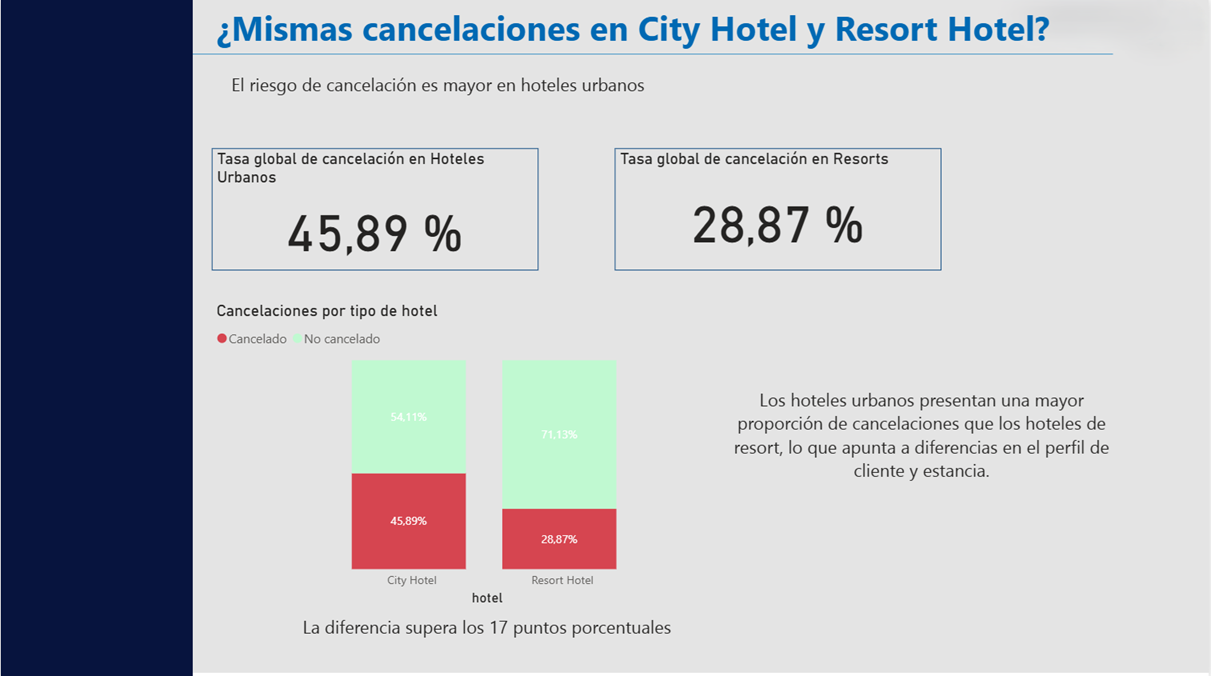

What the dashboard file says about the page in this screenshot:
{"tool":"powerbi","page":{"name":"¿Mismas cancelaciones en City Hotel y Resort Hotel?","canvas":[1280,720],"ordinal":1},"visuals":[{"type":"textbox","box":[223.7,0,902.6,64.2],"z":0},{"type":"hundredPercentStackedColumnChart","title":"Cancelaciones por tipo de hotel","fields":{"Category":["hotel_bookings.hotel"],"Y":["Medidas.Bookings"],"Series":["hotel_bookings.Estado Cancelacion"]},"box":[223.7,320,584.6,327.8],"z":1000},{"type":"textbox","box":[769.4,407.5,413.4,168.3],"z":2000},{"type":"card","title":"Tasa global de cancelación en Hoteles Urbanos","fields":{"Values":["Medidas.CancelRate"]},"box":[223.7,157.6,346.3,129.4],"z":3000},{"type":"card","title":"Tasa global de cancelación en Resorts","fields":{"Values":["Medidas.CancelRate"]},"box":[650.7,157.6,346.3,129.4],"z":4000},{"type":"textbox","box":[213,72.9,500.9,168.3],"z":5000},{"type":"textbox","box":[265.5,647.8,500.9,72],"z":6000}]}

Visuals, with their boxes in screenshot pixels (x1, y1, x2, y2), scaled from the page's 1280x720 canvas onto the 1211x676 screenshot:
textbox: bbox=(212, 0, 1066, 60)
"Cancelaciones por tipo de hotel" hundredPercentStackedColumnChart: bbox=(212, 300, 765, 608)
textbox: bbox=(728, 383, 1119, 541)
"Tasa global de cancelación en Hoteles Urbanos" card: bbox=(212, 148, 539, 269)
"Tasa global de cancelación en Resorts" card: bbox=(616, 148, 943, 269)
textbox: bbox=(202, 68, 675, 226)
textbox: bbox=(251, 608, 725, 675)
